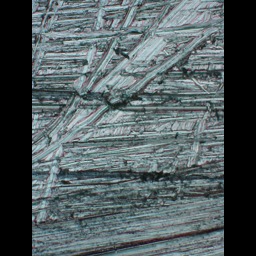d: (32, 0, 214, 169)
